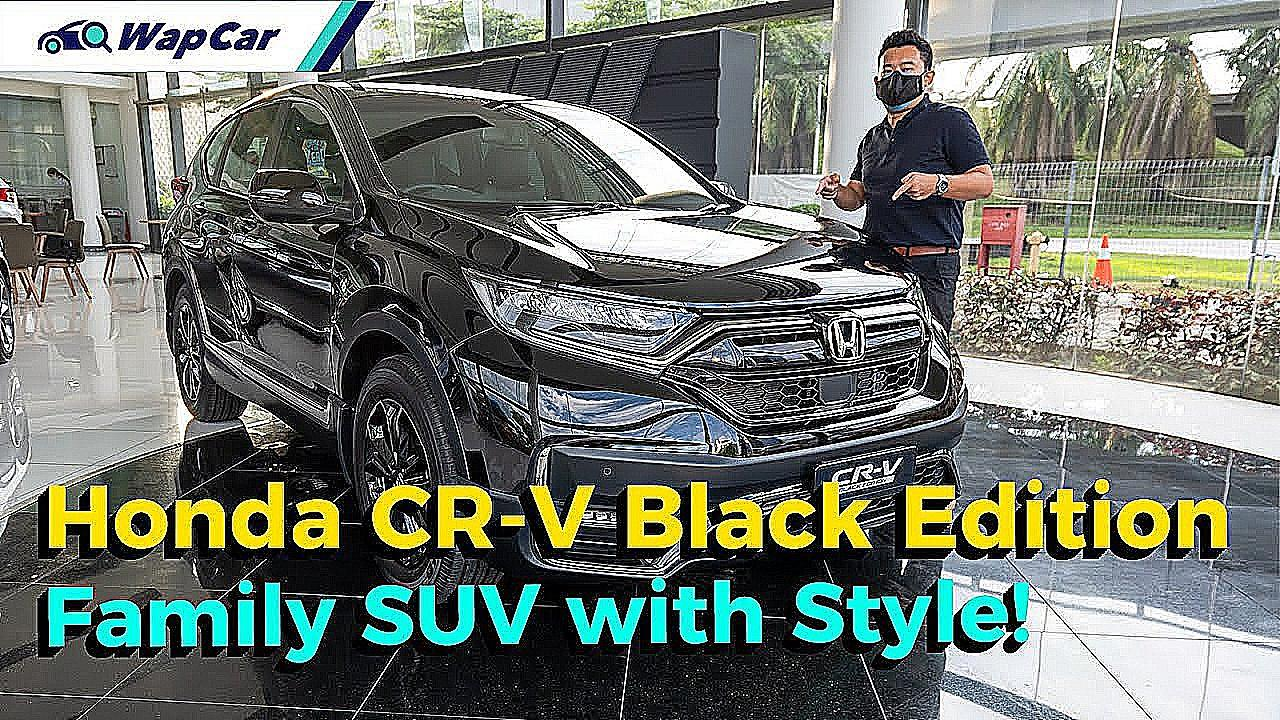Car hood: (380, 196, 924, 309)
Driver-s door - -F-R-: (236, 76, 359, 444)
Fender - -F-R-: (319, 170, 494, 420)
Front bumper: (439, 331, 973, 586)
Headlight - -R-: (457, 267, 699, 359)
Passenger-s door - -R-R-: (176, 76, 287, 408)
Side bumper - -R-: (183, 313, 342, 447)
Side mirror - -R-: (246, 163, 361, 228)
